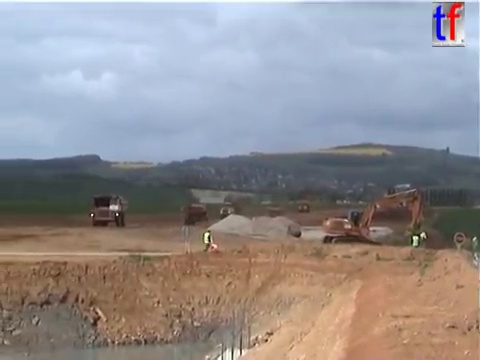excavator: (320, 186, 428, 254), (88, 192, 128, 228)
truck: (181, 202, 210, 226), (218, 200, 239, 220), (263, 202, 285, 219), (296, 202, 309, 212)
worker: (200, 227, 215, 253), (409, 231, 422, 253), (417, 228, 430, 249)
